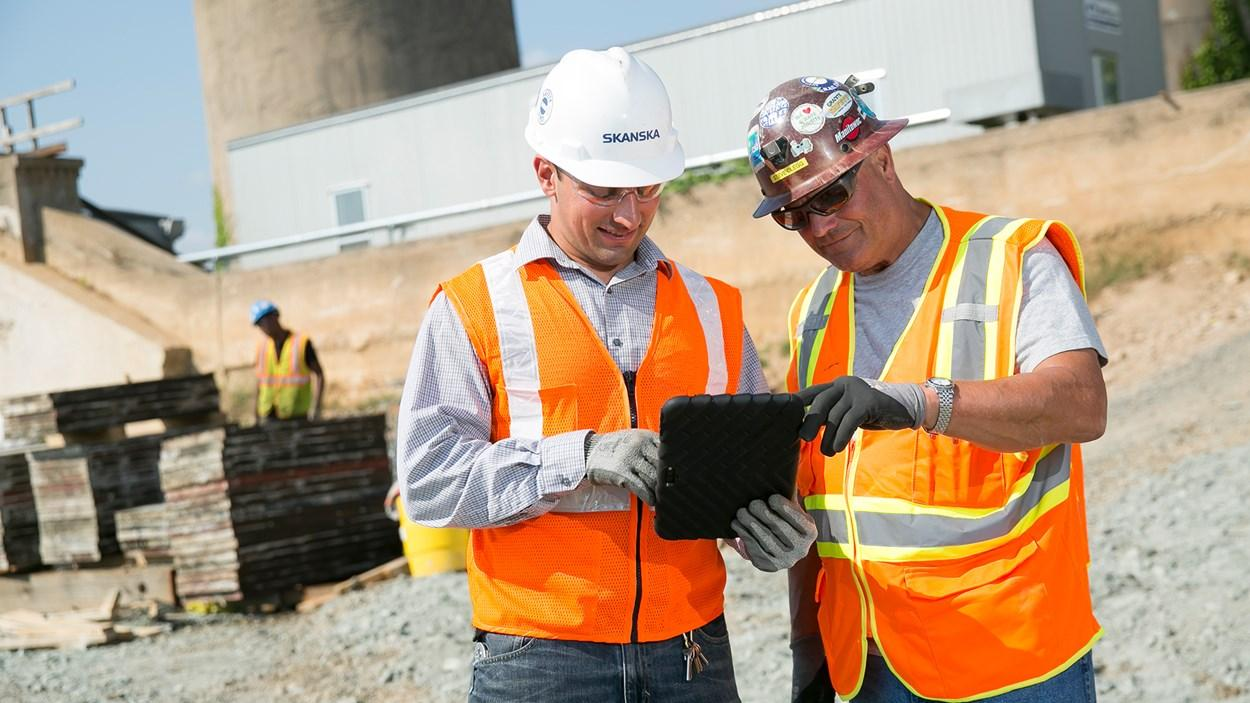helmet: (530, 48, 693, 191), (742, 73, 896, 220), (252, 299, 281, 328)
